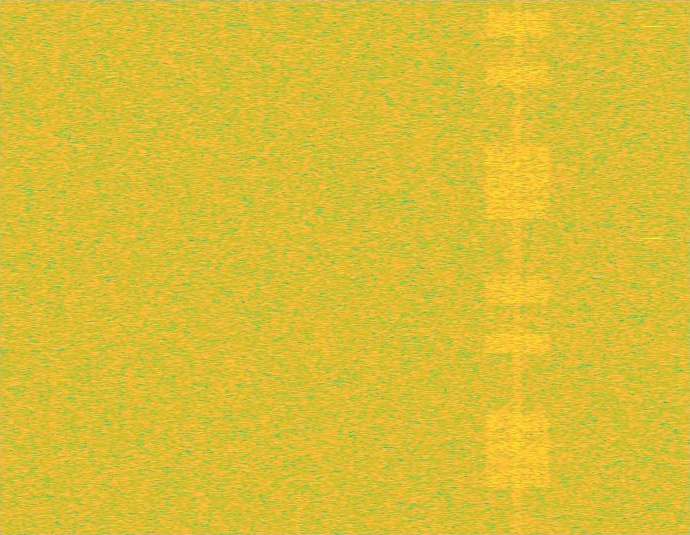DSSS: (513, 0, 522, 534)
LTE: (483, 0, 552, 534)
Radar: (646, 0, 659, 534)
